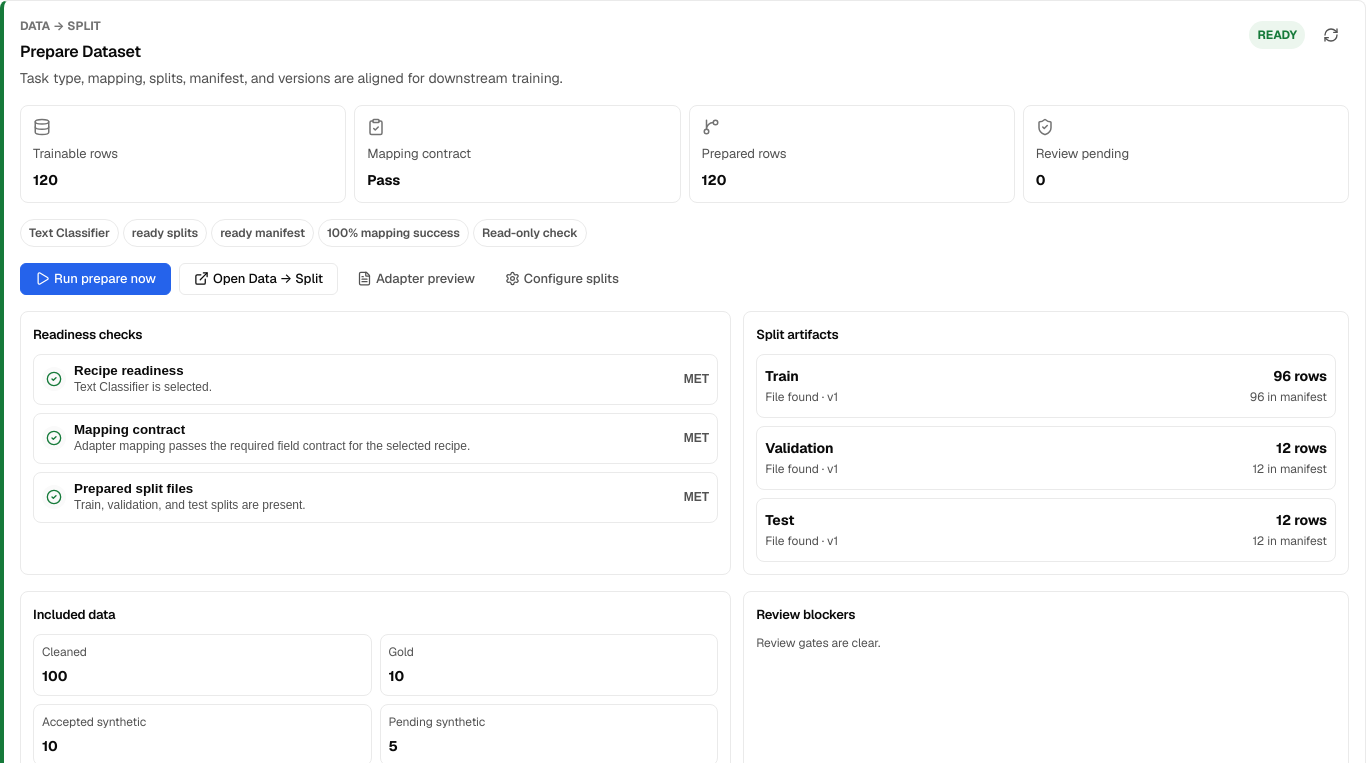
DataStudioPrepareDatasetPanel › POSTs an empty split body and refreshes the panel on success
What coordinates should you click on to do the following:
click the button with test id "data-studio-prepare-run"
I would click on:
 (96, 279)
Its box is left=20, top=263, right=171, bottom=295.
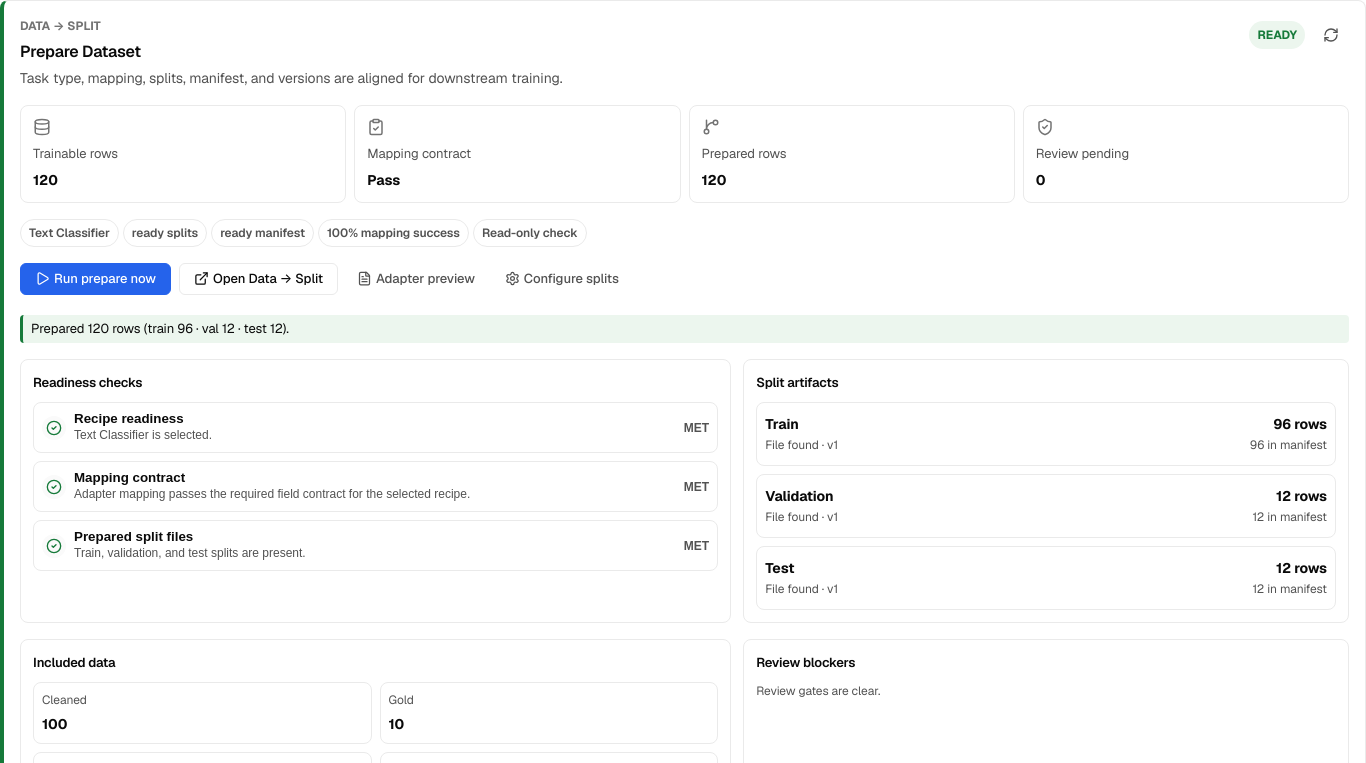
Expected: the text with test id "data-studio-prepare-run-flash" shows "Prepared 120 rows", left=31, top=320, right=289, bottom=337
